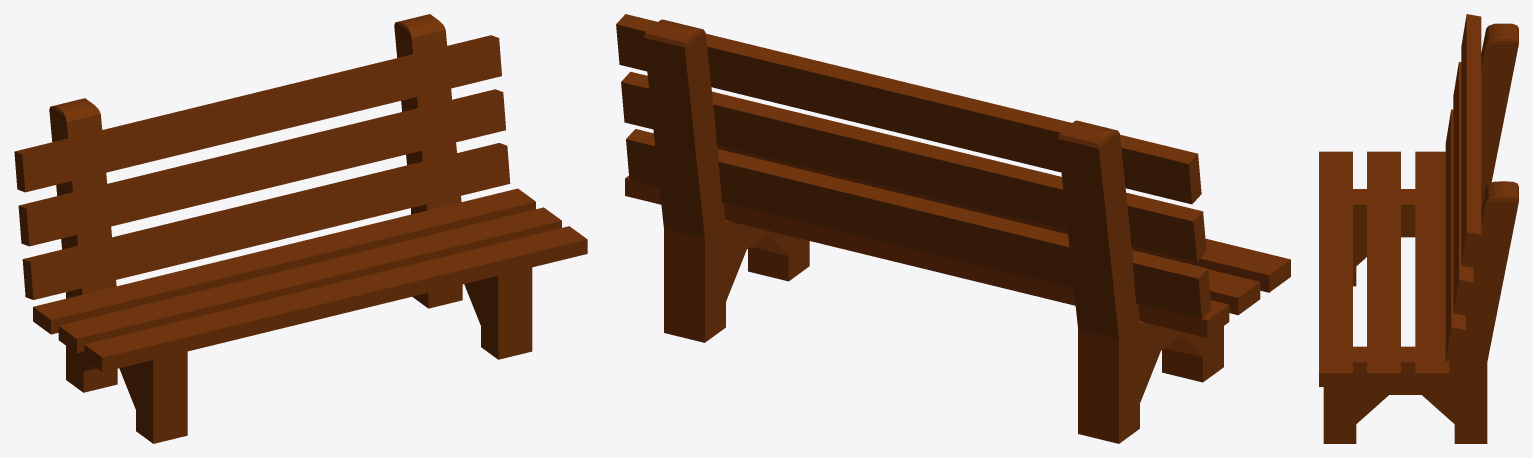
File: cadeira.fbx
3 views of the same model, side by side, from view 1: azimuth 30°, elevation 25°; view 2: azimuth 150°, elevation 25°; view 3: azimuth 270°, elevation 25° (orthographic). The views are drawn at different scales.
Parts seen in each view (by area): view 1: Cube.003; view 2: Cube.003; view 3: Cube.003.
Boxes of the visible parts, bbox=[...] form: Cube.003: bbox=[14, 14, 587, 443]; Cube.003: bbox=[616, 14, 1290, 443]; Cube.003: bbox=[1319, 14, 1518, 443].
Size of the model in its own units: 311 by 162 by 118.
